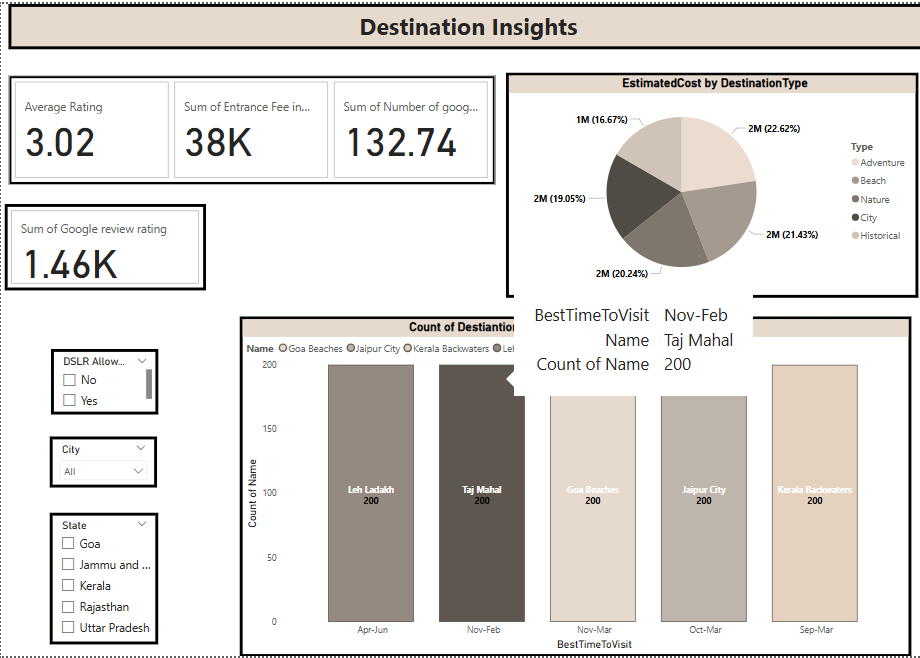

This screenshot's page, from the dashboard's own definition file:
{"tool":"powerbi","page":{"name":"Destination Insights","canvas":[1280,900],"ordinal":4},"visuals":[{"type":"textbox","box":[10.4,0,1268.5,62.6],"z":0},{"type":"cardVisual","fields":{"Data":["Reviews.Average Rating","Sum(Top Indian Places to Visit.Entrance Fee in INR)","Sum(Top Indian Places to Visit.Number of google review in lakhs)"]},"box":[10.7,98.9,672.3,151.4],"z":1000},{"type":"columnChart","title":"Count of Destiantion by BestTimeToVisit and Destiantion Name","fields":{"Category":["Destinations_With_Cost.BestTimeToVisit"],"Y":["CountNonNull(Destinations_With_Cost.Name)"],"Series":["Destinations_With_Cost.Name"]},"box":[328.6,431,926.3,469.3],"z":2000},{"type":"slicer","fields":{"Values":["Top Indian Places to Visit.DSLR Allowed"]},"box":[68.8,475.4,148.3,90.2],"z":3000},{"type":"slicer","fields":{"Values":["Top Indian Places to Visit.City"]},"box":[67.3,596.1,148.3,70.3],"z":4000},{"type":"pieChart","title":"EstimatedCost by DestinationType","fields":{"Category":["Destinations_With_Cost.Type"],"Y":["Sum(Destinations_With_Cost.EstimatedCost)"]},"box":[697,94.8,568.6,310.3],"z":5000},{"type":"slicer","fields":{"Values":["Destinations_With_Cost.State"]},"box":[67.3,701.6,149.8,181.9],"z":6000},{"type":"cardVisual","fields":{"Data":["Sum(Top Indian Places to Visit.Google review rating)"]},"box":[4.8,275.4,277.7,119.2],"z":7000}]}

Visuals, with their boxes in screenshot pixels (x1, y1, x2, y2), scaled from the page's 1280x900 canvas onto the 920x658 screenshot:
textbox: (7,0,919,46)
cardVisual - Reviews.Average Rating x Sum(Top Indian Places to Visit.Entrance Fee in INR): (8,72,491,183)
"Count of Destiantion by BestTimeToVisit and Destiantion Name" columnChart: (236,315,902,657)
slicer - Top Indian Places to Visit.DSLR Allowed: (49,348,156,414)
slicer - Top Indian Places to Visit.City: (48,436,155,487)
"EstimatedCost by DestinationType" pieChart: (501,69,910,296)
slicer - Destinations_With_Cost.State: (48,513,156,646)
cardVisual - Sum(Top Indian Places to Visit.Google review rating): (3,201,203,288)
